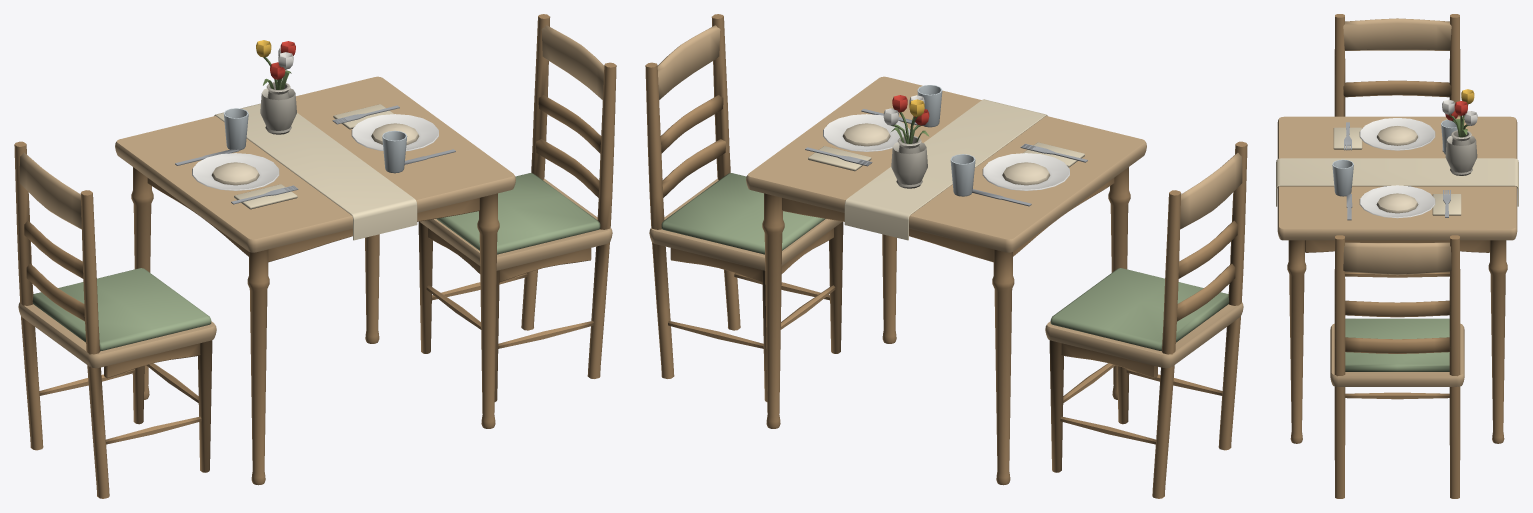
Rendered from diningTable.glb.
The picture shows the model from 3 angles, left to right: view 1: azimuth 30°, elevation 25°; view 2: azimuth 150°, elevation 25°; view 3: azimuth 270°, elevation 25°; orthographic projection. The views are drawn at different scales.
Visible parts, largest first — view 1: diningTable; view 2: diningTable; view 3: diningTable.
Boxes of the visible parts, bbox=[...] form: diningTable: bbox=[14, 14, 616, 498]; diningTable: bbox=[645, 14, 1247, 498]; diningTable: bbox=[1276, 14, 1518, 498].
Bounding box in the file's own units: 1.69 × 1.02 × 0.76.
